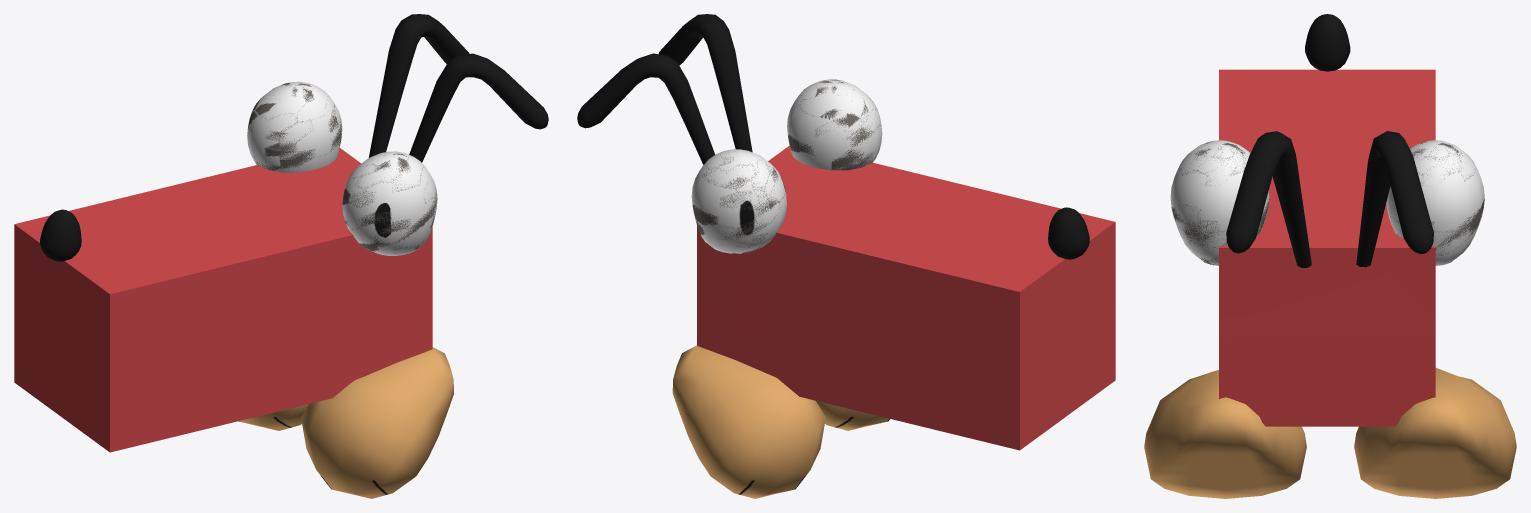
File: BOXDOG_02.fbx
3 views of the same model, side by side, from view 1: azimuth 30°, elevation 25°; view 2: azimuth 150°, elevation 25°; view 3: azimuth 270°, elevation 25° (orthographic). The views are drawn at different scales.
Visible parts, largest first — view 1: uwaago, sitaago, asi1, eye_L, eye_R, mimi2, mimi3, hana, uwamabuta_R1, sitamabuta_L1, asi2, uwamabuta_L1 (+2 smaller); view 2: uwaago, sitaago, asi2, eye_R, eye_L, tunagi, mimi3, mimi2, hana, asi1, uwamabuta_R1, uwamabuta_L1 (+2 smaller); view 3: uwaago, tunagi, asi2, asi1, sitaago, eye_L, eye_R, mimi2, mimi3, hana, sitamabuta_L1, sitamabuta_R1.
Part boxes in pixels (bbox=[...]): uwaago: bbox=[14, 148, 432, 394]; sitaago: bbox=[14, 275, 432, 452]; asi1: bbox=[301, 347, 453, 498]; eye_L: bbox=[342, 151, 437, 255]; eye_R: bbox=[247, 81, 342, 172]; mimi2: bbox=[409, 53, 548, 162]; mimi3: bbox=[369, 14, 469, 157]; hana: bbox=[40, 209, 81, 261]; uwamabuta_R1: bbox=[248, 82, 341, 151]; sitamabuta_L1: bbox=[344, 203, 436, 251]; asi2: bbox=[238, 404, 308, 430]; uwamabuta_L1: bbox=[342, 153, 436, 220]; uwaago: bbox=[697, 145, 1115, 392]; sitaago: bbox=[697, 273, 1115, 450]; asi2: bbox=[672, 345, 825, 498]; eye_R: bbox=[691, 149, 786, 253]; eye_L: bbox=[787, 79, 882, 170]; tunagi: bbox=[697, 251, 776, 372]; mimi3: bbox=[577, 53, 714, 164]; mimi2: bbox=[658, 14, 752, 152]; hana: bbox=[1048, 207, 1089, 259]; asi1: bbox=[816, 401, 889, 430]; uwamabuta_R1: bbox=[698, 154, 785, 218]; uwamabuta_L1: bbox=[796, 79, 880, 148]; uwaago: bbox=[1219, 69, 1435, 315]; tunagi: bbox=[1219, 246, 1435, 415]; asi2: bbox=[1354, 368, 1516, 498]; asi1: bbox=[1144, 370, 1306, 498]; sitaago: bbox=[1219, 315, 1435, 426]; eye_L: bbox=[1170, 140, 1269, 265]; eye_R: bbox=[1386, 140, 1484, 265]; mimi2: bbox=[1226, 131, 1311, 267]; mimi3: bbox=[1356, 131, 1433, 267]; hana: bbox=[1305, 14, 1350, 71]; sitamabuta_L1: bbox=[1171, 199, 1269, 265]; sitamabuta_R1: bbox=[1390, 198, 1484, 263].
Bounding box in the file's own units: 61.78 × 49.33 × 37.76.
